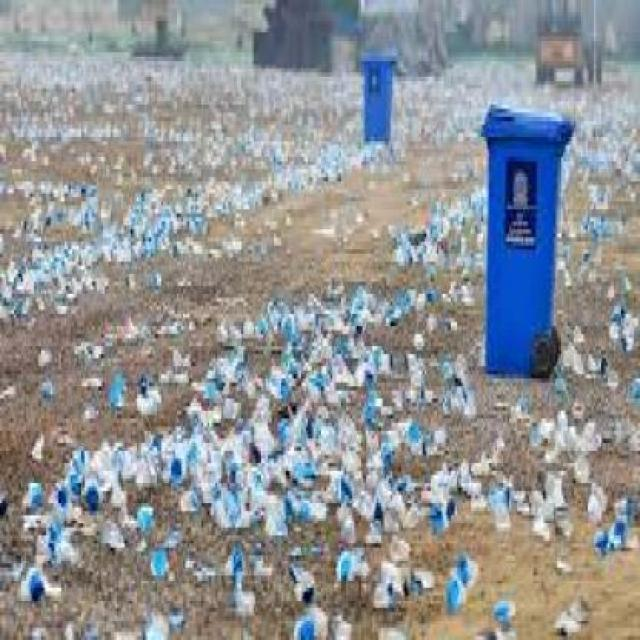garbage: (0, 57, 358, 637), (359, 186, 486, 637), (488, 379, 639, 636), (555, 117, 638, 354), (394, 68, 482, 149)
